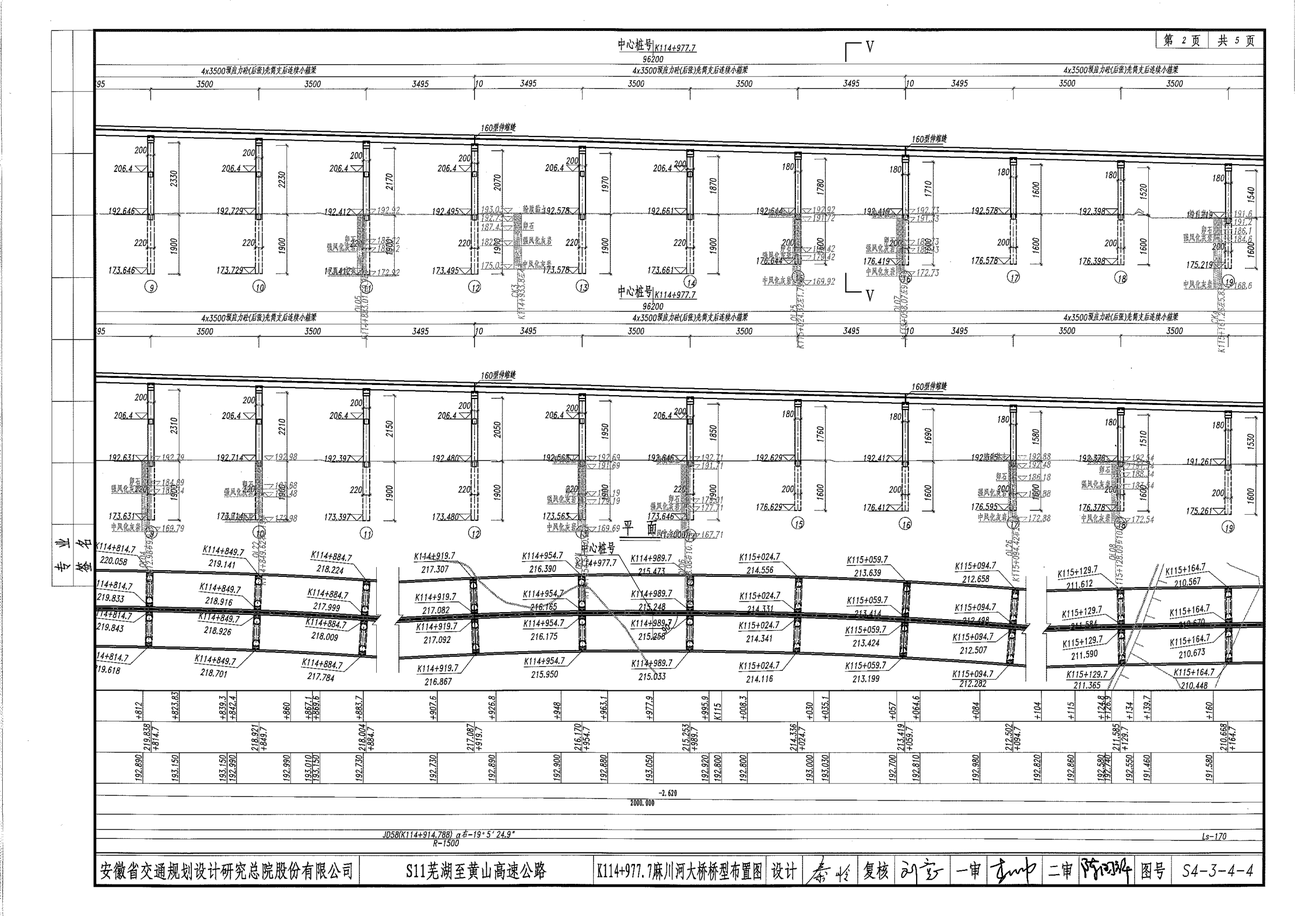A: (90, 31, 1273, 301), (67, 297, 1285, 552)
